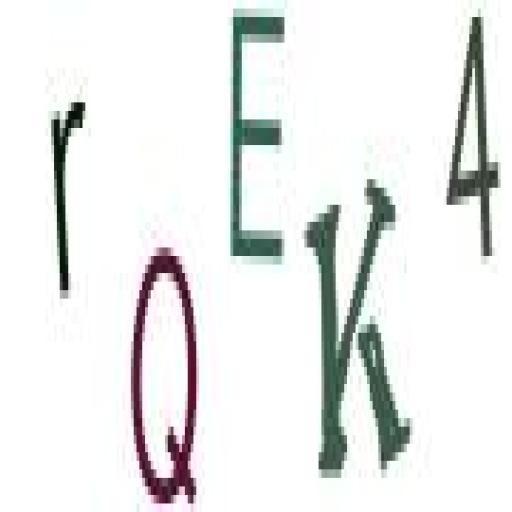4: (445, 10, 506, 270)
E: (228, 6, 290, 283)
K: (302, 167, 413, 493)
Q: (125, 230, 205, 512)
r: (46, 100, 94, 308)
